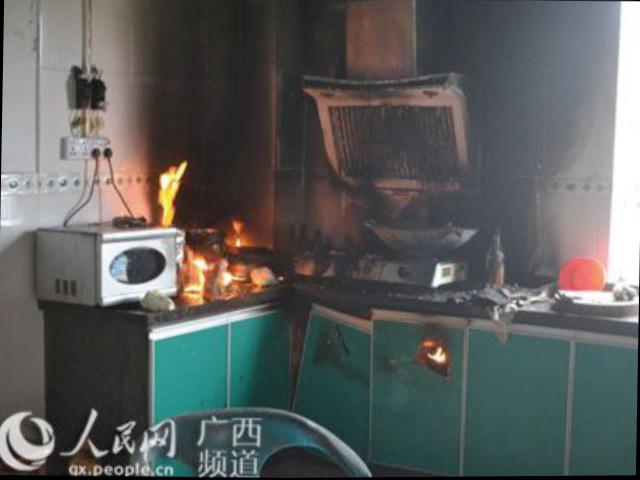fire: (157, 165, 175, 222), (184, 253, 204, 291), (217, 258, 230, 285), (229, 220, 243, 245)
